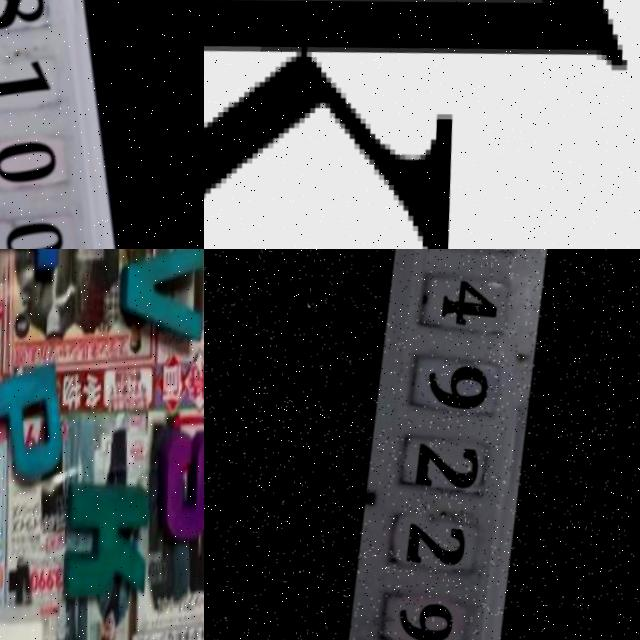0: (0, 122, 80, 186), (1, 205, 88, 249)
1: (0, 45, 74, 111)
2: (405, 419, 506, 498), (394, 499, 496, 576)
4: (424, 256, 528, 334)
8: (0, 0, 64, 34)
9: (413, 340, 513, 418), (387, 577, 483, 640)
K: (204, 0, 625, 249), (68, 474, 158, 598)
P: (0, 362, 76, 476)
S: (164, 428, 204, 529)
V: (124, 249, 204, 340)
